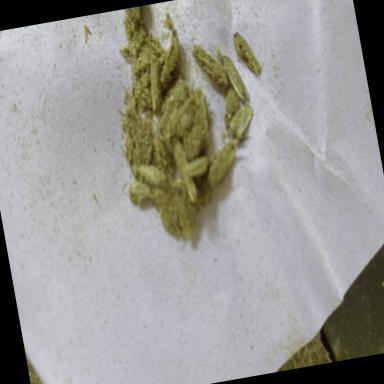pbw: (190, 42, 228, 93), (202, 143, 241, 190), (232, 30, 264, 82), (173, 141, 199, 203), (220, 50, 248, 104), (156, 36, 186, 85), (144, 54, 166, 112), (228, 105, 258, 142), (121, 177, 154, 210), (137, 161, 167, 189), (182, 156, 210, 180), (133, 46, 158, 72)
